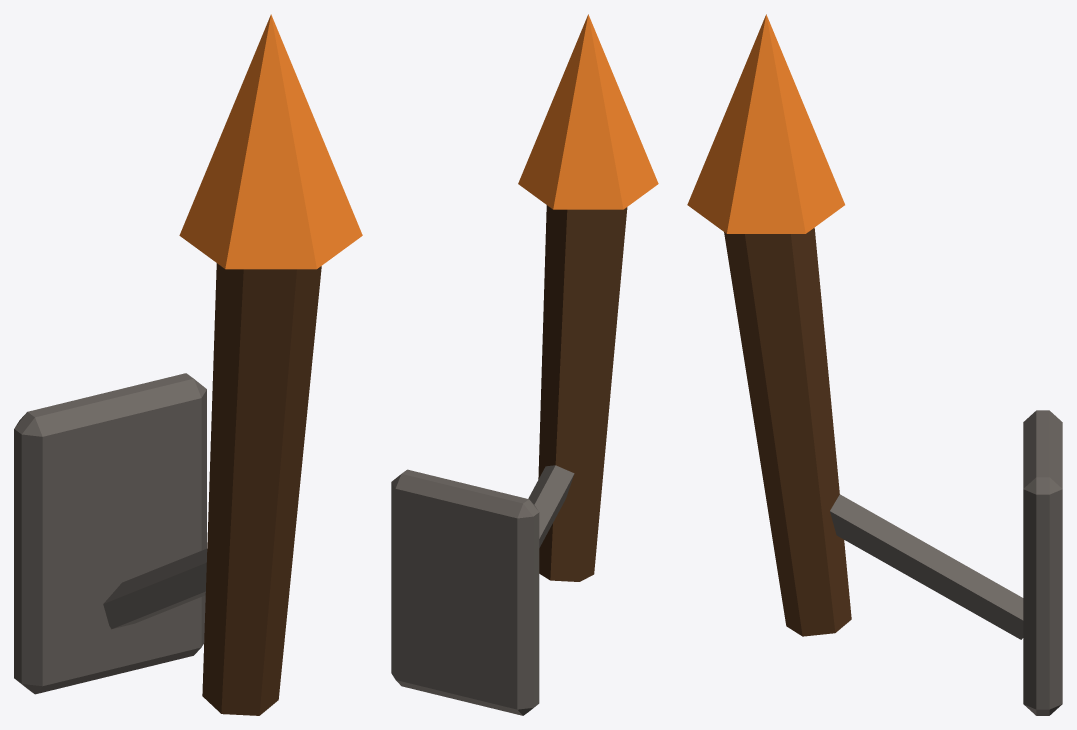
Rendered from PR_Decor_Mesale.fbx.
3 renders of one model, left to right at view 1: azimuth 30°, elevation 25°; view 2: azimuth 150°, elevation 25°; view 3: azimuth 270°, elevation 25°, orthographic. The views are drawn at different scales.
Parts seen in each view (by area): view 1: PR_Decor_Mesale; view 2: PR_Decor_Mesale; view 3: PR_Decor_Mesale.
Boxes of the visible parts, x1,y1,x2,y2 form: PR_Decor_Mesale: (14, 14, 362, 715); PR_Decor_Mesale: (391, 14, 658, 715); PR_Decor_Mesale: (687, 14, 1062, 715).
Bounding box in the file's own units: 0.14 × 0.56 × 0.285.
1 material, 1 textured.
